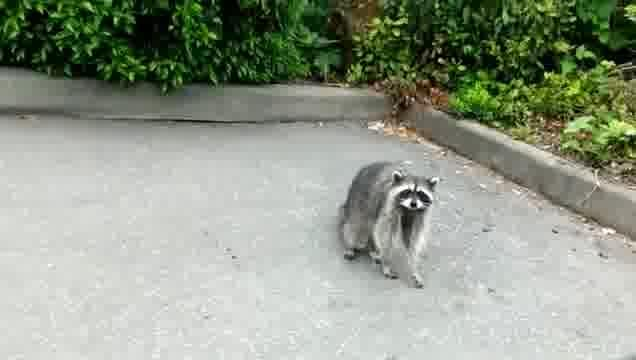raccoon: (340, 159, 440, 291)
